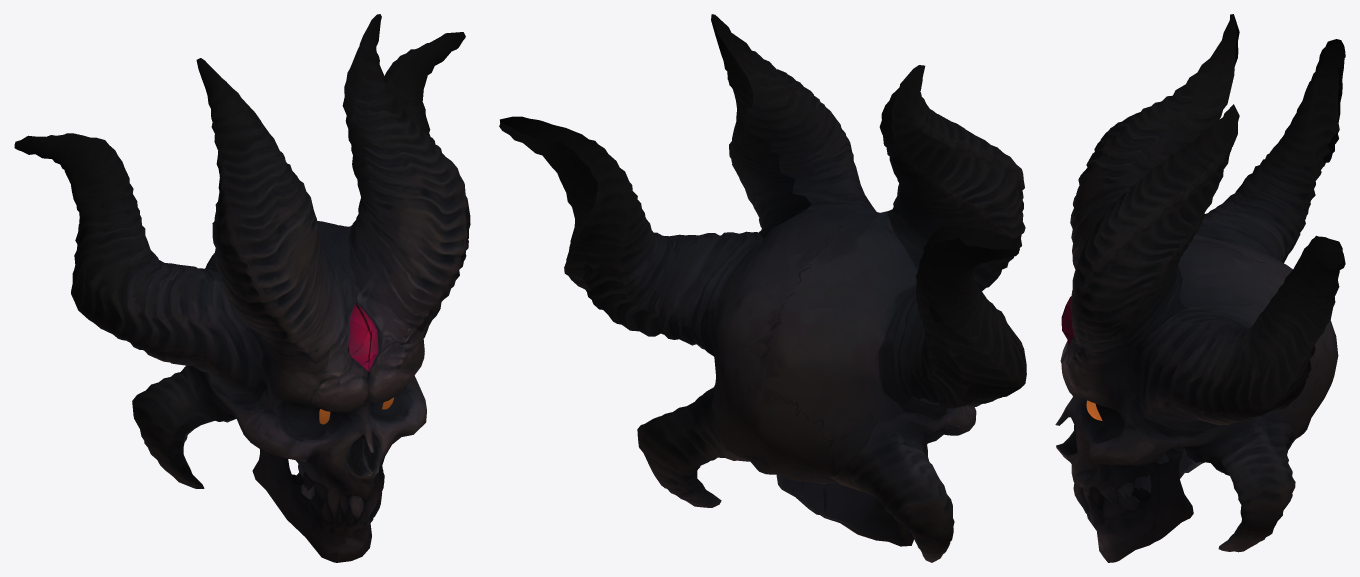
The model's file is DemonSkull_NoSkeleton.fbx.
3 views of the same model, side by side, from view 1: azimuth 30°, elevation 25°; view 2: azimuth 150°, elevation 25°; view 3: azimuth 270°, elevation 25° (orthographic). The views are drawn at different scales.
Parts seen in each view (by area): view 1: DemonSkull; view 2: DemonSkull; view 3: DemonSkull.
Boxes of the visible parts, x1,y1,x2,y2 form: DemonSkull: [14, 14, 470, 562]; DemonSkull: [499, 14, 1026, 562]; DemonSkull: [1055, 14, 1345, 562].
Bounding box in the file's own units: 38.74 × 39.42 × 20.88.
Materials: 1 (1 with a texture image).
